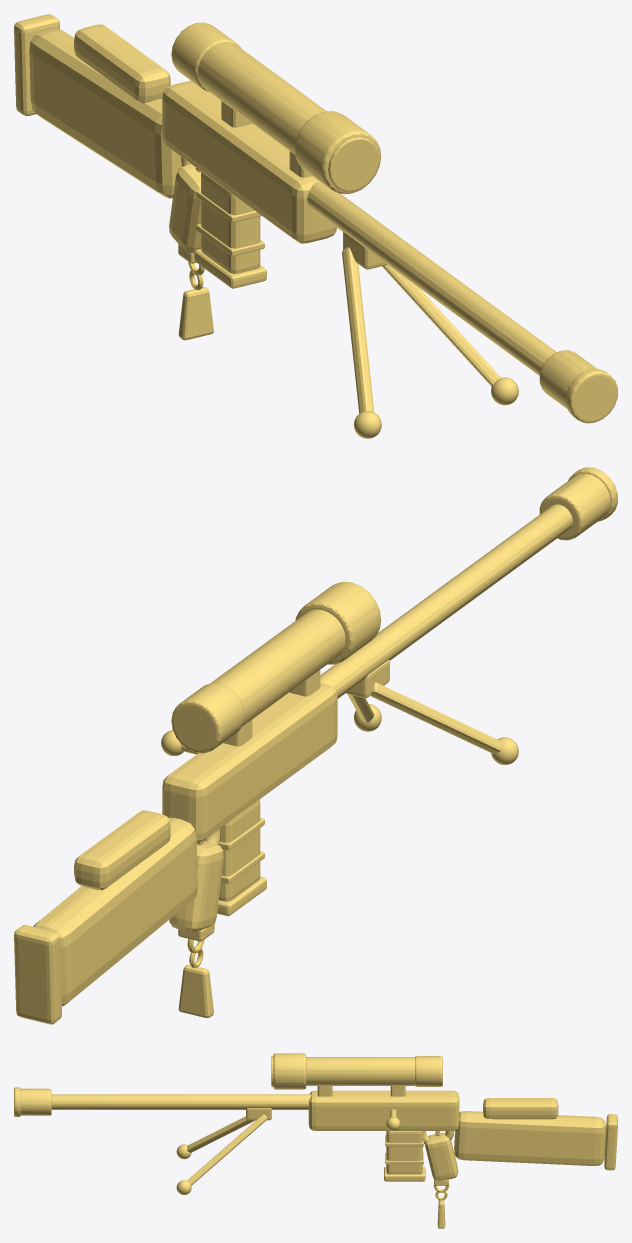
File: sniper_rifle_gold.glb
3 views of the same model, one above another, from view 1: azimuth 30°, elevation 25°; view 2: azimuth 150°, elevation 25°; view 3: azimuth 270°, elevation 25° (orthographic). The views are drawn at different scales.
Parts seen in each view (by area): view 1: WPN_Sniper_Stock_Gold.001, WPN_Sniper_Receiver_Gold.001, WPN_Sniper_Barrel_Gold.001, WPN_Sniper_Scope_Gold.001, WPN_Sniper_Cheek_Gold.001, WPN_Sniper_MagBody_Gold.001, WPN_Sniper_ScopeObj_Gold.001, WPN_Sniper_BipodL_Gold.001, WPN_Sniper_Grip_Gold.001, WPN_Sniper_BrakeRing_Gold.001, WPN_Sniper_Lens_Gold.001, WPN_Sniper_BipodR_Gold.001 (+8 smaller); view 2: WPN_Sniper_Receiver_Gold.001, WPN_Sniper_Stock_Gold.001, WPN_Sniper_Barrel_Gold.001, WPN_Sniper_Scope_Gold.001, WPN_Sniper_ButtPad_Gold.001, WPN_Sniper_Cheek_Gold.001, WPN_Sniper_ScopeEye_Gold.001, WPN_Sniper_ScopeObj_Gold.001, WPN_Sniper_MagBody_Gold.001, WPN_Sniper_Grip_Gold.001, WPN_Sniper_Brake_Gold.001, WPN_Sniper_BipodL_Gold.001 (+1 smaller); view 3: WPN_Sniper_Stock_Gold.001, WPN_Sniper_Receiver_Gold.001, WPN_Sniper_Barrel_Gold.001, WPN_Sniper_Scope_Gold.001, WPN_Sniper_Cheek_Gold.001, WPN_Sniper_MagBody_Gold.001, WPN_Sniper_ScopeObj_Gold.001, WPN_Sniper_Grip_Gold.001, WPN_Sniper_Brake_Gold.001, WPN_Sniper_ScopeEye_Gold.001, WPN_Sniper_BipodR_Gold.001, WPN_Sniper_ButtPad_Gold.001 (+3 smaller).
Boxes of the visible parts, x1,y1,x2,y2 form: WPN_Sniper_Stock_Gold.001: (29, 29, 181, 198); WPN_Sniper_Receiver_Gold.001: (162, 80, 336, 243); WPN_Sniper_Barrel_Gold.001: (307, 181, 556, 375); WPN_Sniper_Scope_Gold.001: (197, 42, 326, 154); WPN_Sniper_Cheek_Gold.001: (74, 24, 170, 103); WPN_Sniper_MagBody_Gold.001: (201, 172, 260, 273); WPN_Sniper_ScopeObj_Gold.001: (294, 111, 381, 194); WPN_Sniper_BipodL_Gold.001: (342, 247, 374, 413); WPN_Sniper_Grip_Gold.001: (169, 164, 201, 253); WPN_Sniper_BrakeRing_Gold.001: (566, 369, 617, 423); WPN_Sniper_Lens_Gold.001: (328, 137, 379, 191); WPN_Sniper_BipodR_Gold.001: (382, 264, 500, 386); WPN_Sniper_Receiver_Gold.001: (162, 682, 337, 842); WPN_Sniper_Stock_Gold.001: (33, 817, 197, 1006); WPN_Sniper_Barrel_Gold.001: (320, 504, 572, 698); WPN_Sniper_Scope_Gold.001: (210, 609, 345, 726); WPN_Sniper_ButtPad_Gold.001: (14, 925, 61, 1024); WPN_Sniper_Cheek_Gold.001: (74, 810, 170, 890); WPN_Sniper_ScopeEye_Gold.001: (171, 683, 244, 753); WPN_Sniper_ScopeObj_Gold.001: (295, 581, 381, 664); WPN_Sniper_MagBody_Gold.001: (219, 799, 260, 901); WPN_Sniper_Grip_Gold.001: (169, 841, 223, 931); WPN_Sniper_Brake_Gold.001: (539, 473, 610, 540); WPN_Sniper_BipodL_Gold.001: (370, 682, 501, 753); WPN_Sniper_Stock_Gold.001: (454, 1111, 606, 1165); WPN_Sniper_Receiver_Gold.001: (308, 1090, 459, 1130); WPN_Sniper_Barrel_Gold.001: (51, 1094, 311, 1109); WPN_Sniper_Scope_Gold.001: (306, 1057, 414, 1085); WPN_Sniper_Cheek_Gold.001: (483, 1098, 558, 1119); WPN_Sniper_MagBody_Gold.001: (386, 1131, 422, 1174); WPN_Sniper_ScopeObj_Gold.001: (273, 1053, 306, 1089); WPN_Sniper_Grip_Gold.001: (425, 1132, 458, 1180); WPN_Sniper_Brake_Gold.001: (20, 1088, 51, 1115); WPN_Sniper_ScopeEye_Gold.001: (415, 1056, 442, 1086); WPN_Sniper_BipodR_Gold.001: (187, 1114, 267, 1185); WPN_Sniper_ButtPad_Gold.001: (604, 1114, 617, 1170).
Bounding box in the file's own units: 0.212 × 0.3984 × 1.28.
